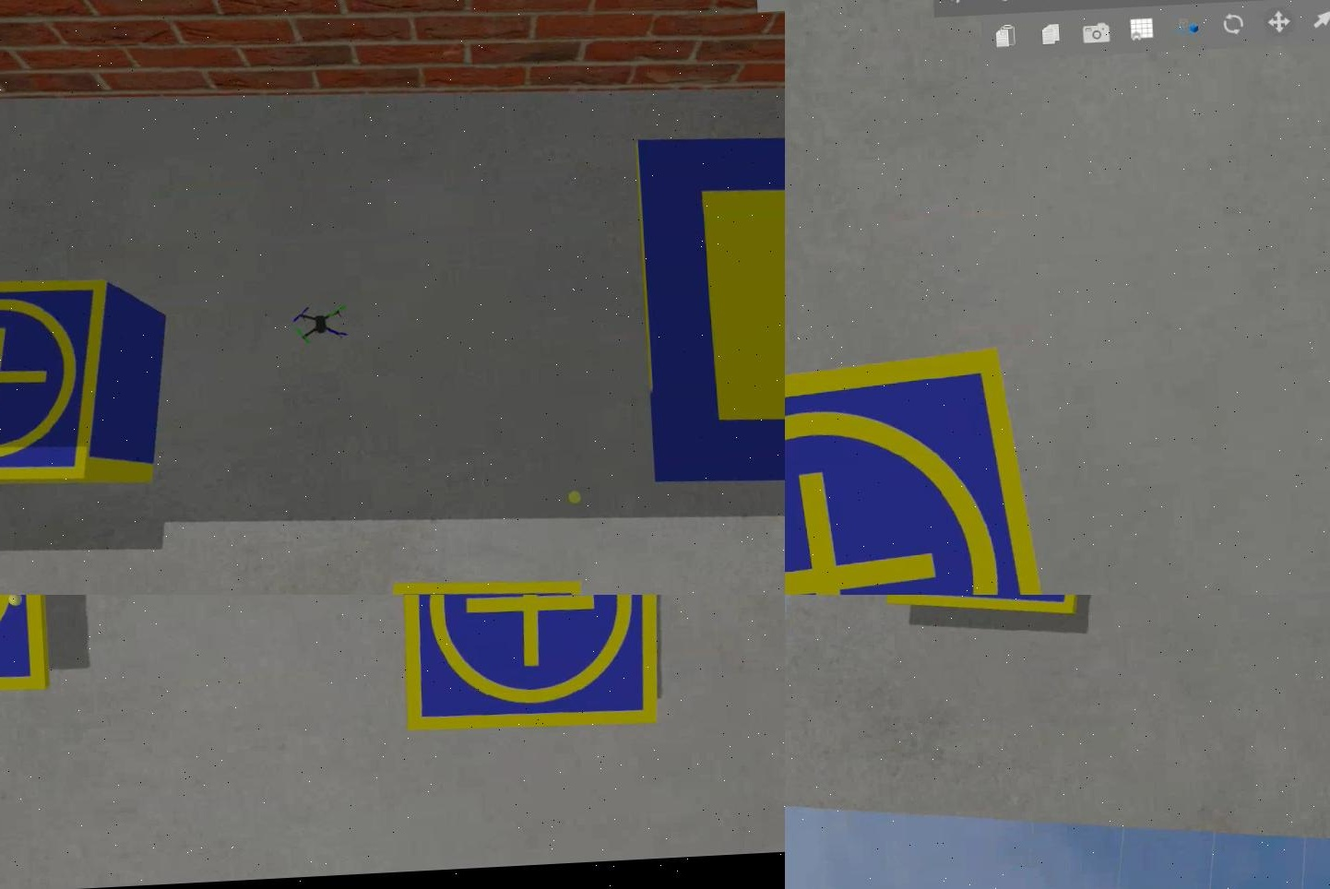large_base: (637, 113, 783, 498)
small_base: (783, 336, 1073, 595), (394, 595, 672, 739), (0, 277, 115, 491)
